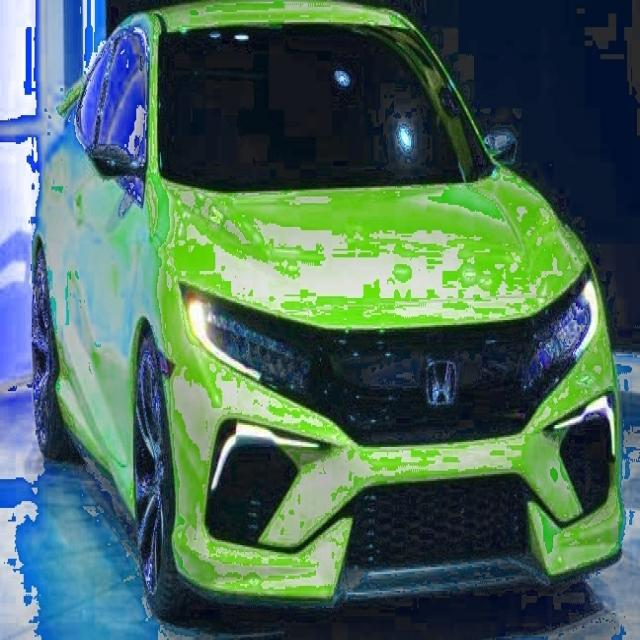green: (34, 1, 622, 640)
